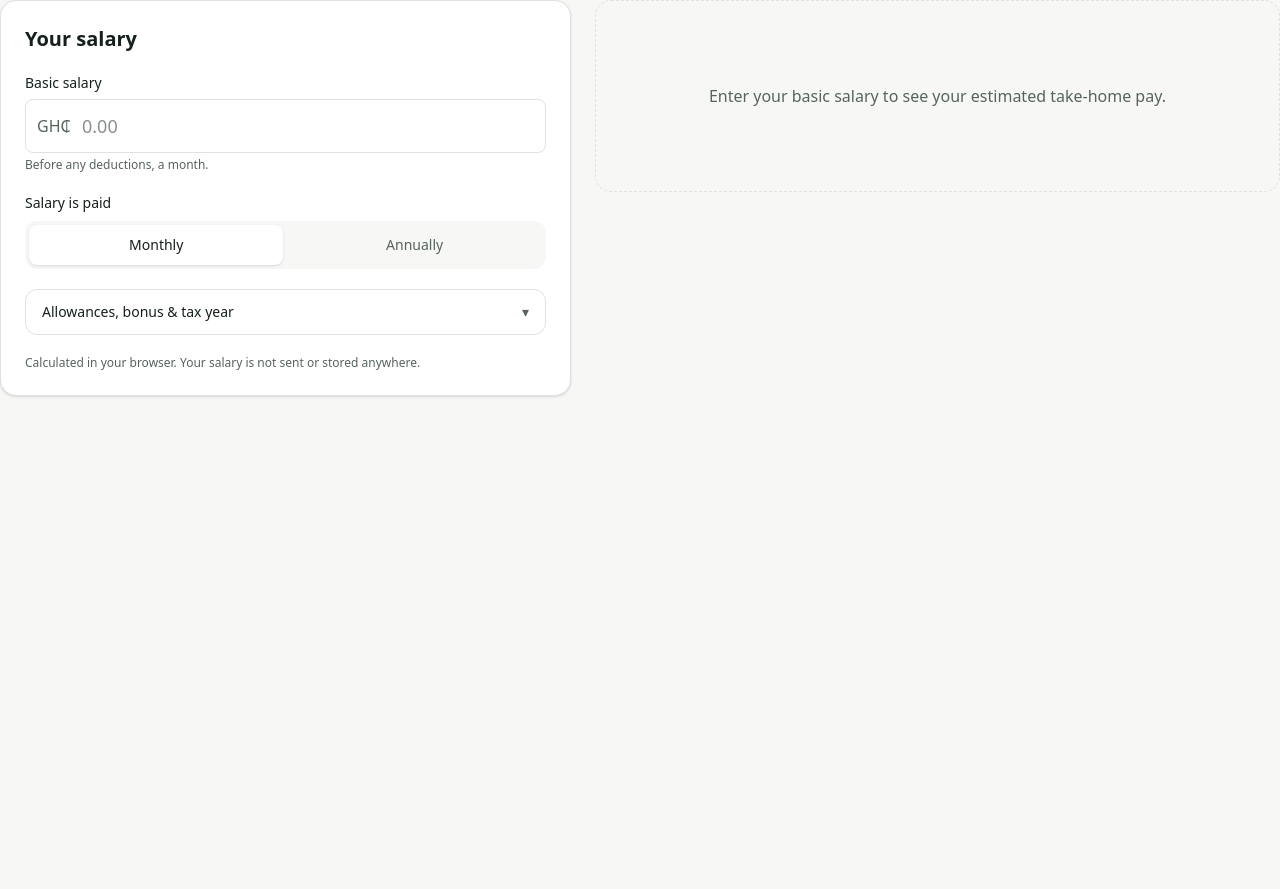
it: SalaryCalculator › treats the entered salary as annual when 'Annually' is selected
Click the radio button labelled "Annually" at (415, 244), box [386,235,443,254]
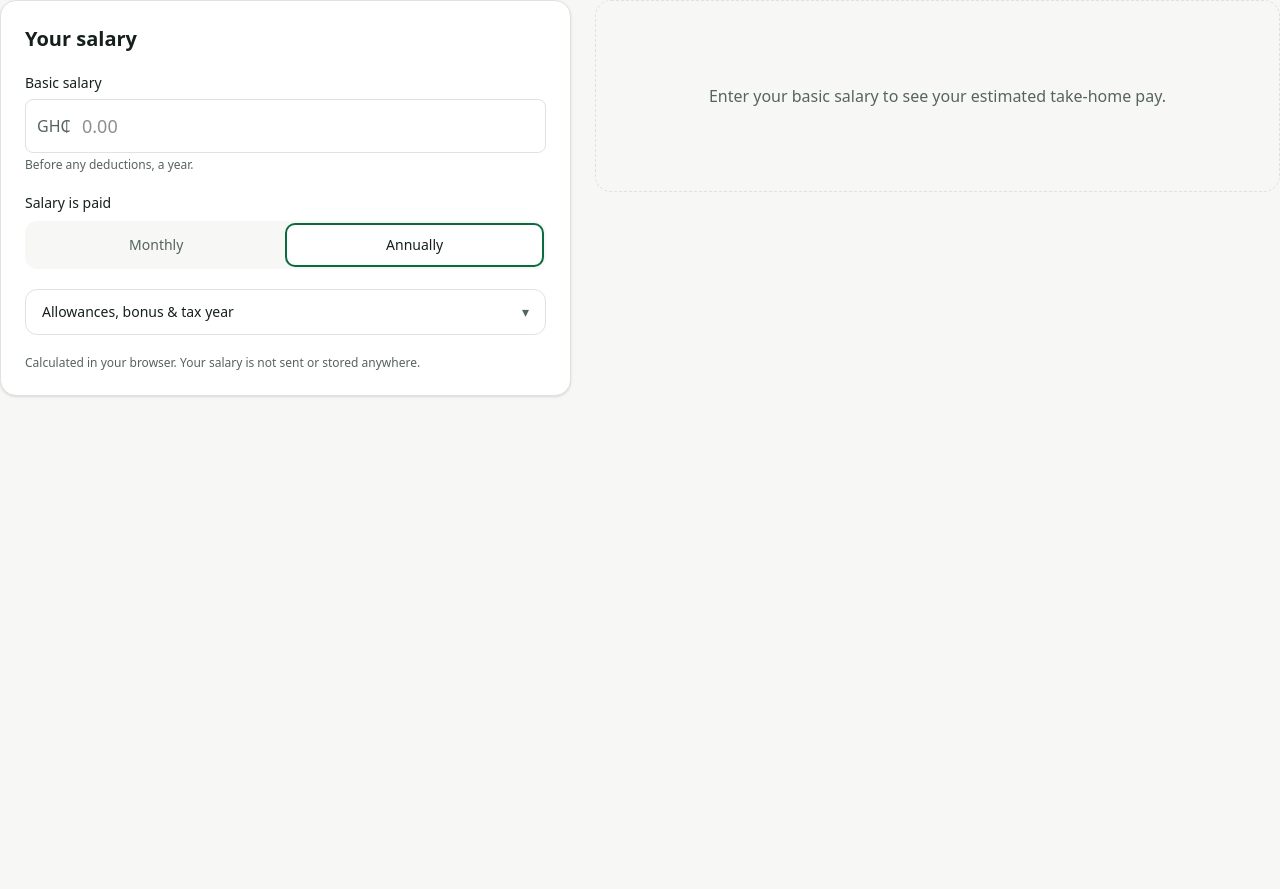
Type "60000" into the field labelled "Basic salary" at (285, 126), box [25,99,546,153]
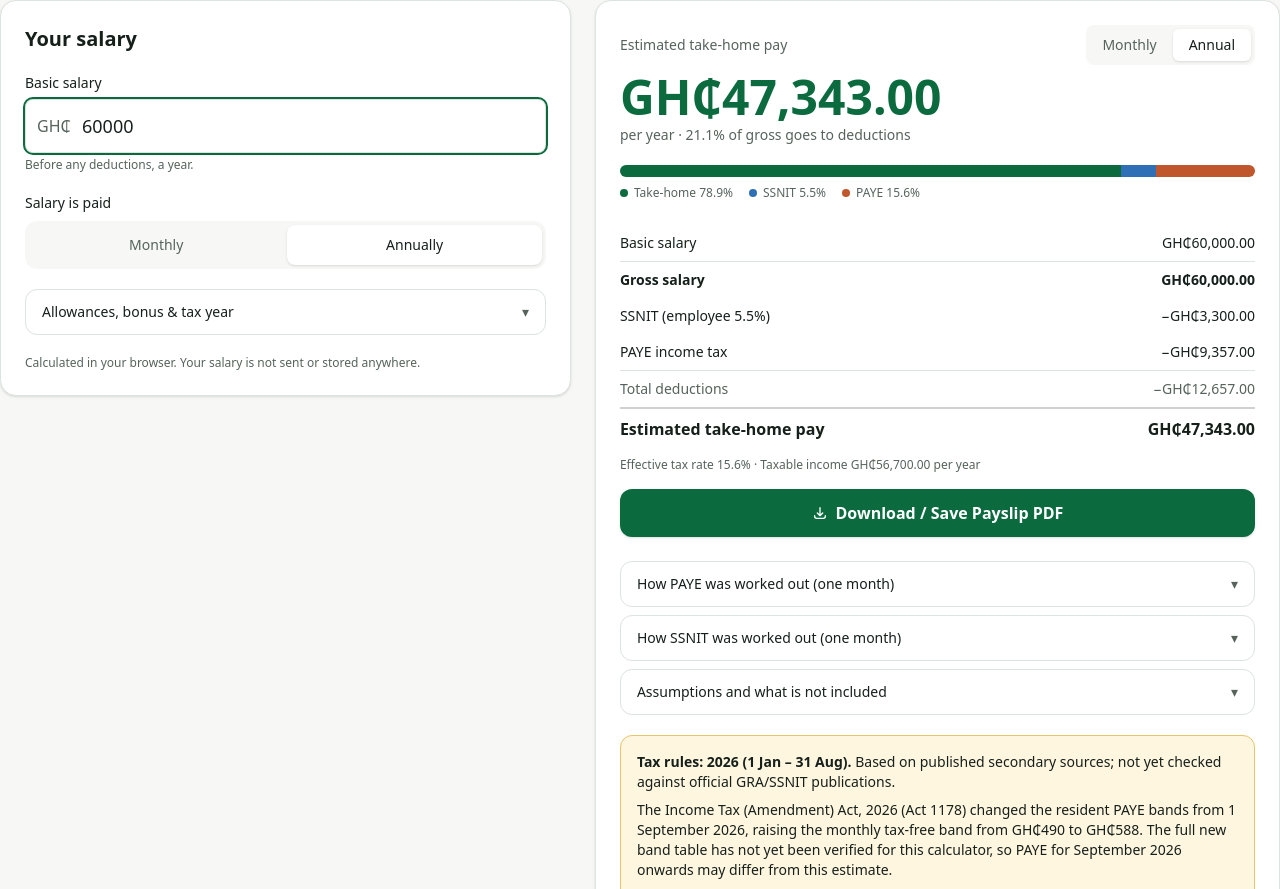
Result: the text with test id "net-pay" reads "GH₵47,343.00" at [620,64,942,129]
Click the button "Monthly" at (1130, 45), box [1090,29,1169,61]
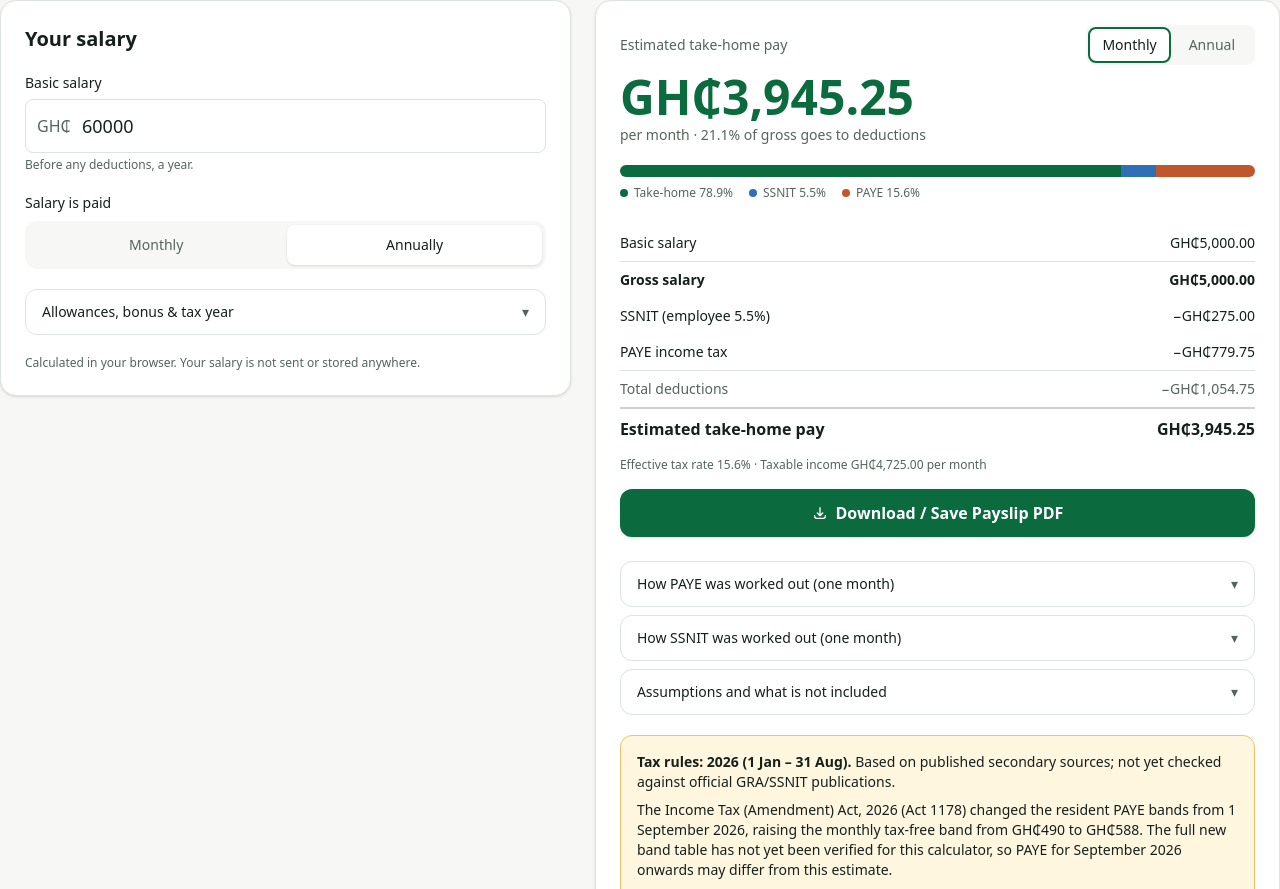
Result: the text with test id "net-pay" reads "GH₵3,945.25" at [620,64,914,129]
